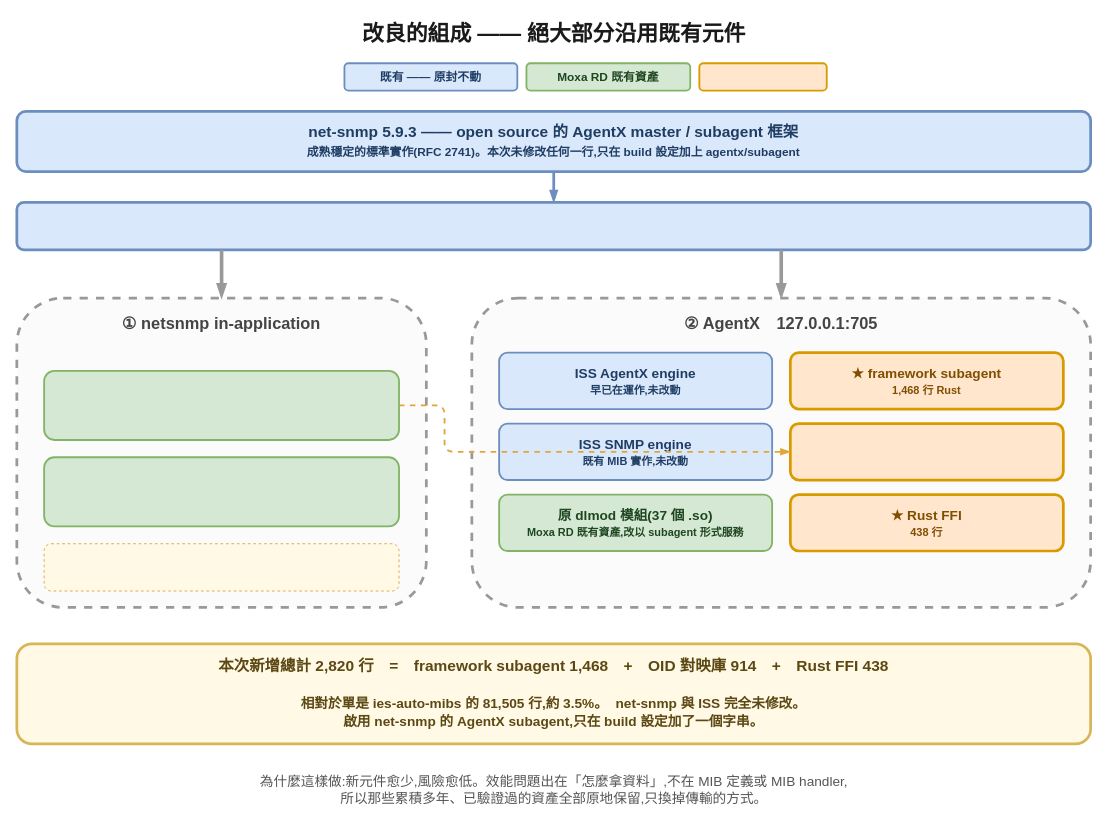
This 1107x832 diagram has some shape labels left out. Here are the shapes that lost their labels. From the top down, the centre of each, then its label:
At (x=762, y=76): "★ 本次新增".
At (x=553, y=226): "snmpd —— SNMP 主程式".
At (x=221, y=404): "ies-auto-mibs —— OID 對映表 81,505 行,多年累積的 MIB 定義與旗標".
At (x=926, y=451): "★ OID → URI 對映庫 914 行 C —— 抽出既有對映資料供重用".
At (x=221, y=491): "MIB handler functions Moxa RD 撰寫的取值 / 設值 / 相依檢查邏輯".
At (x=221, y=567): "↗ 右側的對映庫是從這裡 抽出既有資料 供重用 不重寫 MIB 定義".
